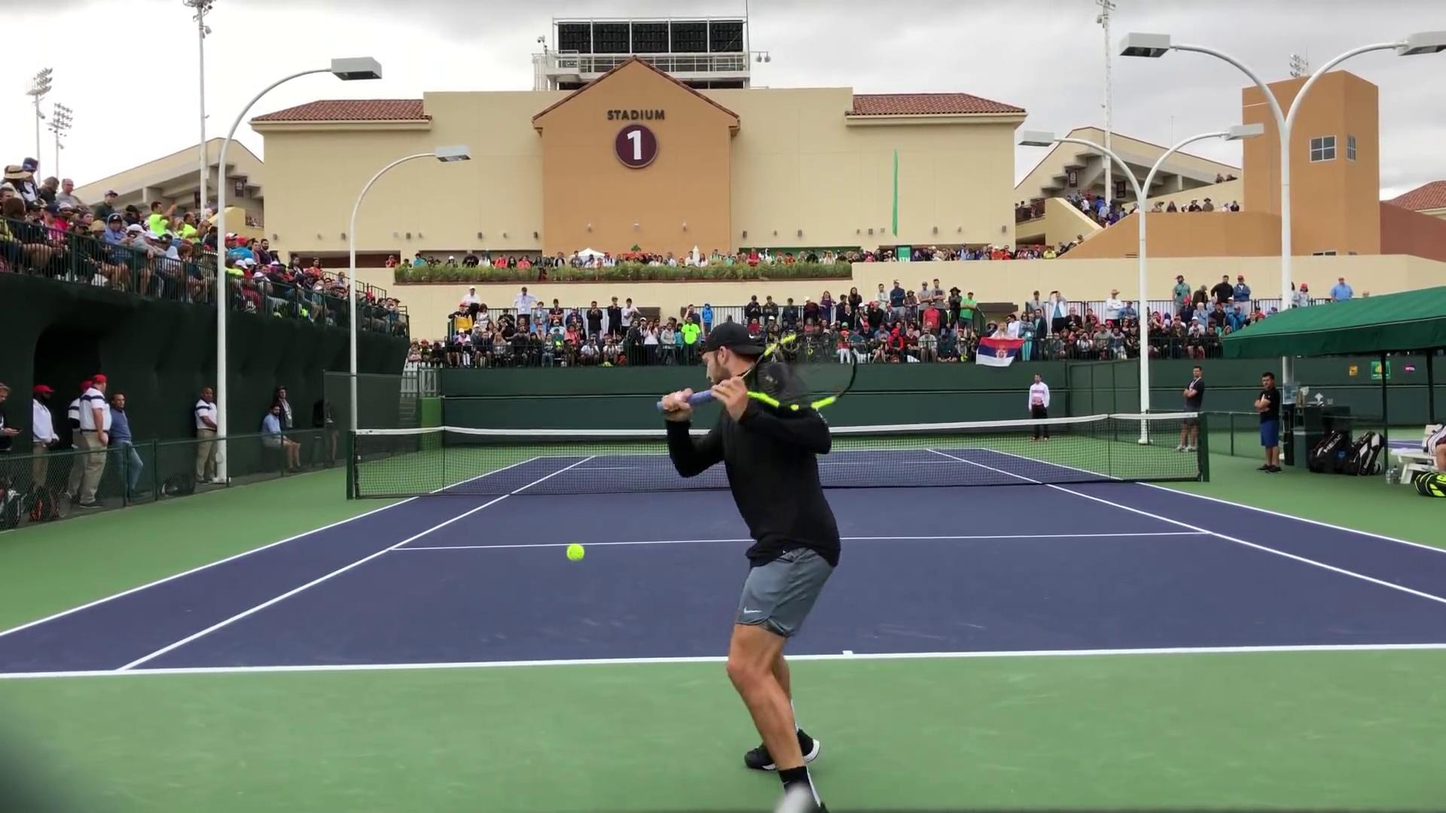ball: (566, 543, 584, 563)
